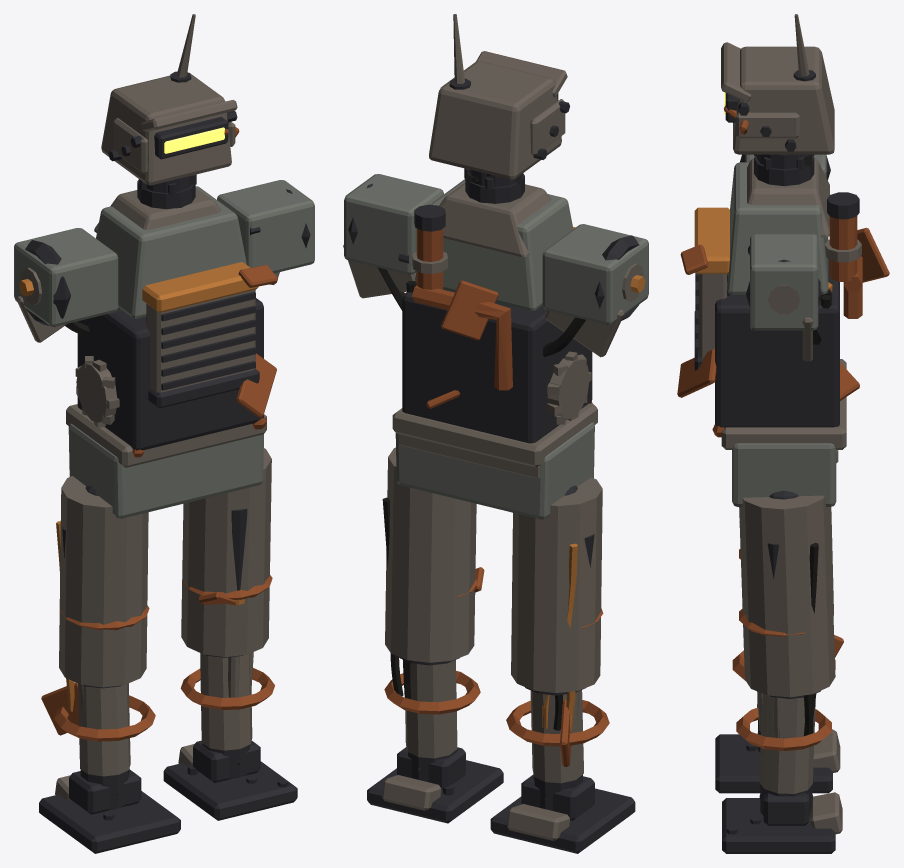
File: ch_brute.glb
The picture shows the model from 3 angles, left to right: view 1: azimuth 30°, elevation 25°; view 2: azimuth 150°, elevation 25°; view 3: azimuth 270°, elevation 25°; orthographic projection. The views are drawn at different scales.
Visible parts, largest first — view 1: ch_brute, limb_leg_l, limb_leg_r; view 2: ch_brute, limb_leg_l, limb_leg_r; view 3: ch_brute, limb_leg_r, limb_leg_l.
Boxes of the visible parts, x1=… form: ch_brute: x1=14, y1=14, x2=314, y2=518; limb_leg_l: x1=39, y1=476, x2=180, y2=853; limb_leg_r: x1=163, y1=448, x2=297, y2=820; ch_brute: x1=343, y1=14, x2=648, y2=519; limb_leg_l: x1=490, y1=477, x2=635, y2=853; limb_leg_r: x1=367, y1=447, x2=503, y2=823; ch_brute: x1=677, y1=14, x2=889, y2=506; limb_leg_r: x1=722, y1=490, x2=842, y2=853; limb_leg_l: x1=715, y1=507, x2=843, y2=793.
Size of the model in its own units: 0.3396 by 0.9036 by 0.2157.
